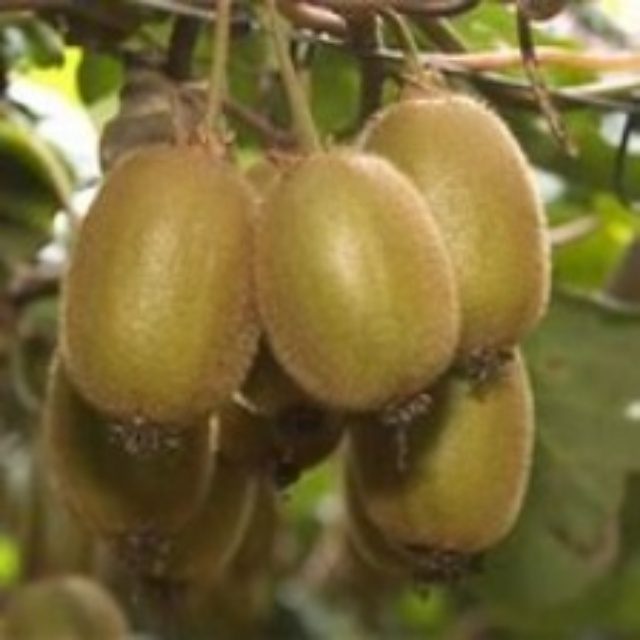kiwi: (64, 149, 280, 437), (42, 357, 270, 617), (365, 79, 554, 364), (257, 154, 458, 416), (347, 342, 535, 589)
